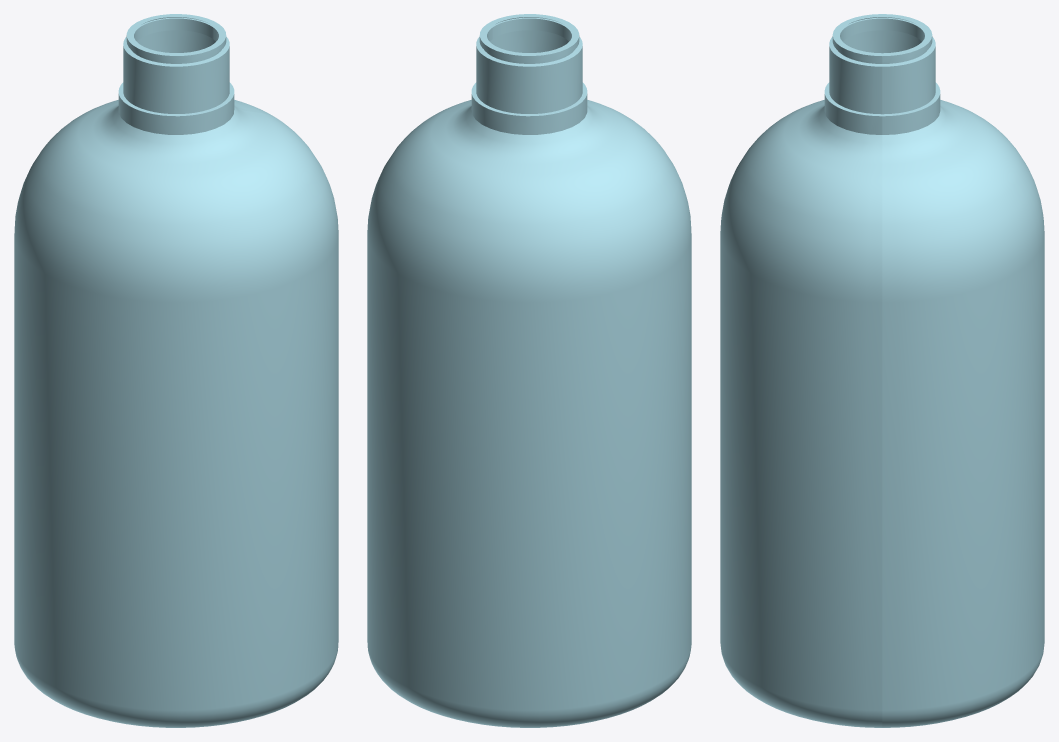
File: bottle_glass_center.glb
The picture shows the model from 3 angles, left to right: view 1: azimuth 30°, elevation 25°; view 2: azimuth 150°, elevation 25°; view 3: azimuth 270°, elevation 25°; orthographic projection.
Size of the model in its own units: 0.0649 by 0.14 by 0.0649.
